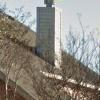Chimney: (27, 0, 70, 63)
